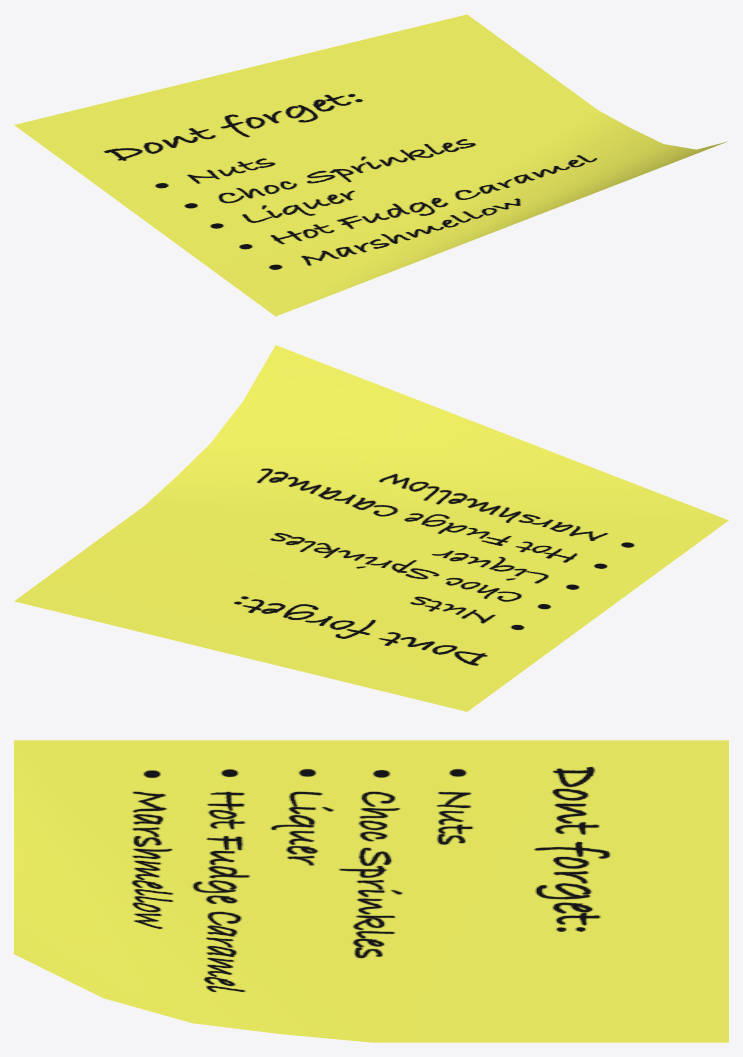
File: sticky_note_icecream.glb
The picture shows the model from 3 angles, top to bottom: view 1: azimuth 30°, elevation 25°; view 2: azimuth 150°, elevation 25°; view 3: azimuth 270°, elevation 25°; orthographic projection. The views are drawn at different scales.
Parts seen in each view (by area): view 1: polySurface7; view 2: polySurface7; view 3: polySurface7.
Part boxes in pixels (x1,y1,x2,y2): polySurface7: (14,14,727,316); polySurface7: (14,345,728,711); polySurface7: (14,740,728,1042).
Bounding box in the file's own units: 12.61 × 1.72 × 12.61.
1 material, 1 textured.
